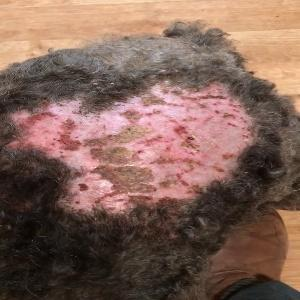skin_lesions: (7, 72, 257, 213)
